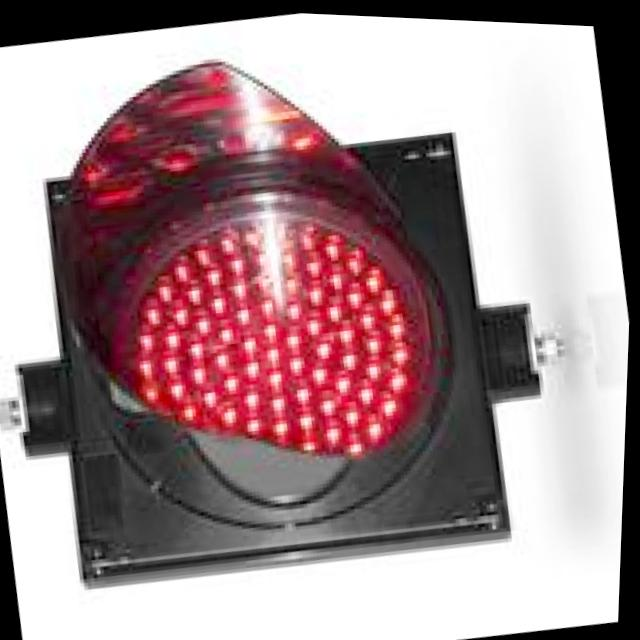red_light: (37, 100, 509, 616)
